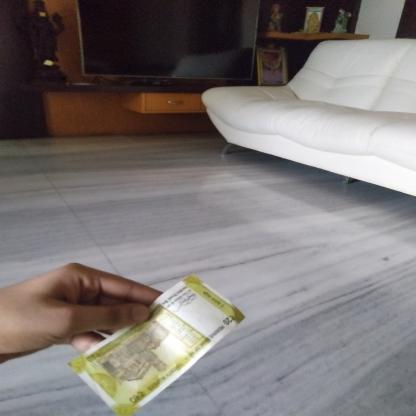New20Back: (96, 280, 232, 404)
